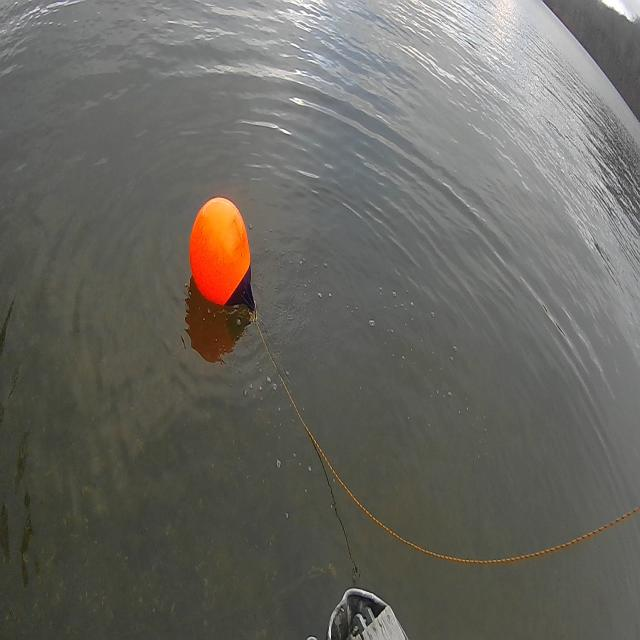Buoy: (185, 186, 264, 330)
